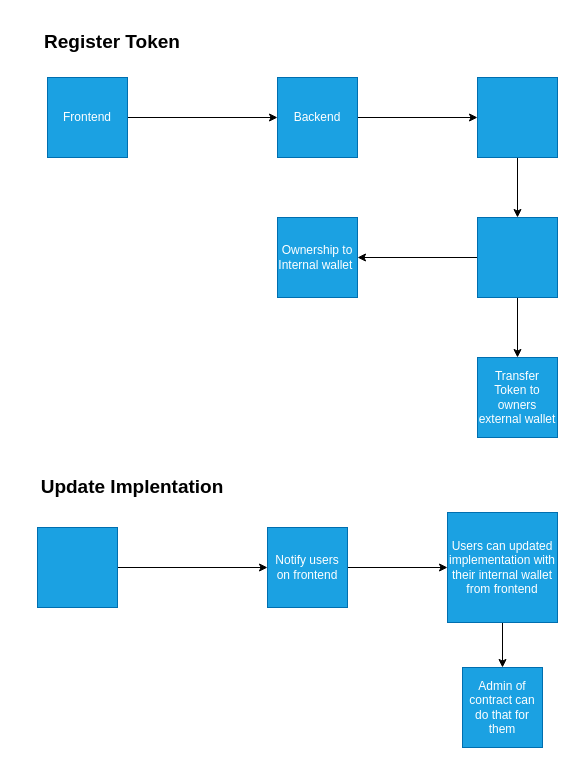
The diagram is 575 pixels wide and 765 high, and some of its shapes have lost their labels. The centre of each missing label's shape, as x and y in pixels:
Created EchoVault ERC-20 Token: the point at 517,257
EchoVault Factory Register(): the point at 517,117
New Implementation added by Admin: the point at 77,567
